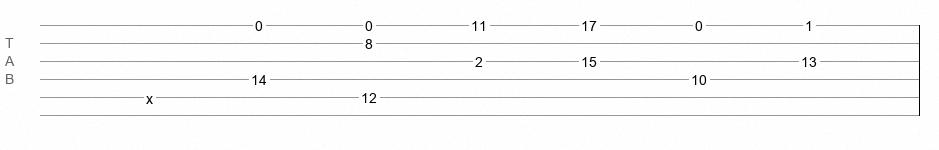0: (255, 18, 263, 28), (365, 18, 373, 28), (695, 18, 703, 28)
1: (805, 18, 813, 28)
10: (691, 72, 707, 82)
11: (471, 18, 487, 28)
12: (361, 90, 377, 100)
13: (801, 54, 817, 64)
14: (251, 72, 267, 82)
15: (581, 54, 597, 64)
17: (581, 18, 597, 28)
2: (475, 54, 483, 64)
8: (365, 36, 373, 46)
x: (146, 91, 153, 99)
